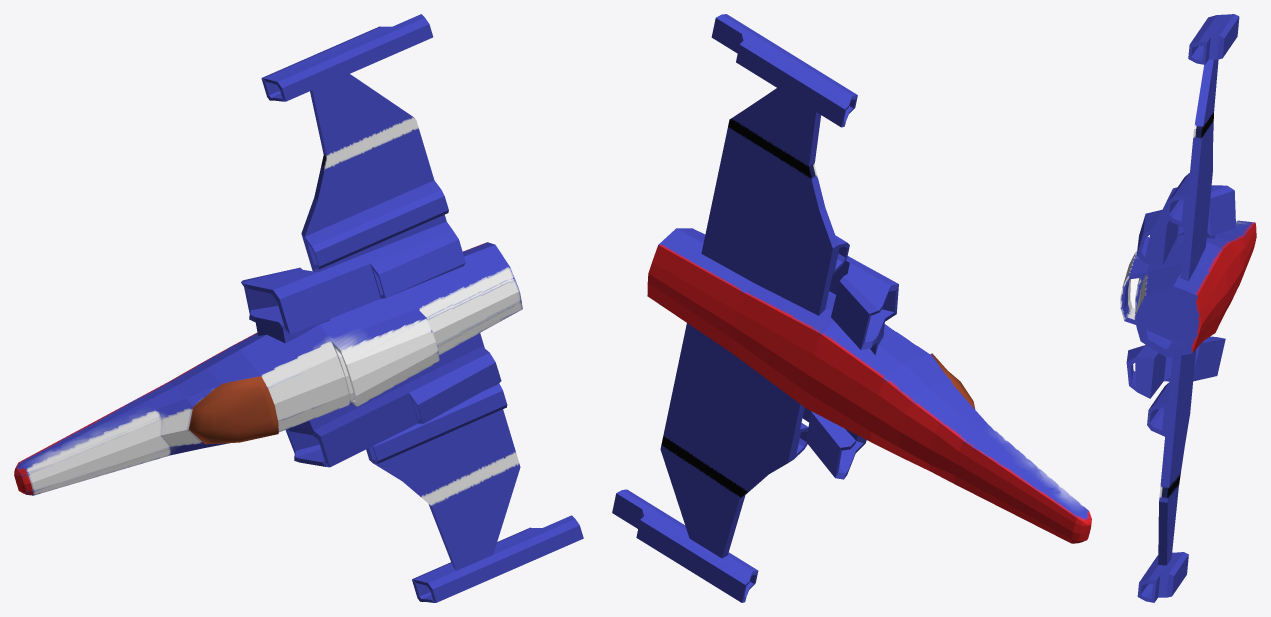
Rendered from Spaceship3.fbx.
3 renders of one model, left to right at view 1: azimuth 30°, elevation 25°; view 2: azimuth 150°, elevation 25°; view 3: azimuth 270°, elevation 25°, orthographic. The views are drawn at different scales.
Parts seen in each view (by area): view 1: node_id7 (×2); view 2: node_id7; view 3: node_id7.
Part boxes in pixels (left/top/right/bottom): node_id7 (×2): left=14, top=14, right=583, bottom=602; node_id7: left=612, top=14, right=1091, bottom=602; node_id7: left=1120, top=14, right=1256, bottom=602.
Bounding box in the file's own units: 0.4979 × 0.5311 × 0.1214.
Materials: 2 (2 with a texture image).
